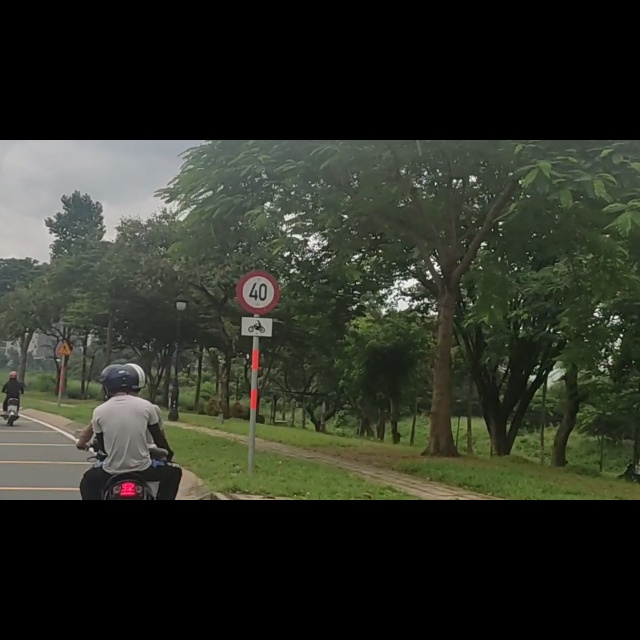bien_nguy_hiem: (237, 233, 279, 312), (58, 356, 73, 380)
